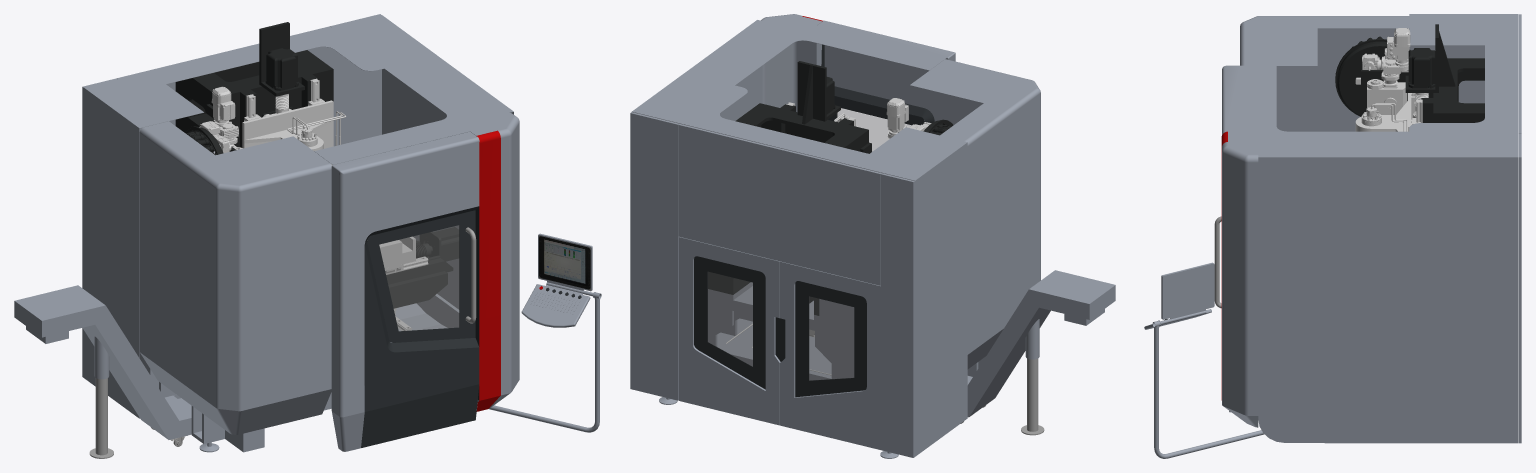
Rendered from machine-off.glb.
The picture shows the model from 3 angles, left to right: view 1: azimuth 30°, elevation 25°; view 2: azimuth 150°, elevation 25°; view 3: azimuth 270°, elevation 25°; orthographic projection. The views are drawn at different scales.
Visible parts, largest first — view 1: CNC_Machine_with_Doors_mesh76_192, CNC_Machine_with_Doors_mesh106_184, CNC_Machine_with_Doors_mesh72_176, CNC_Machine_with_Doors_mesh179_180, CNC_Machine_with_Doors_mesh83_202, CNC_Machine_with_Doors_mesh78_196, CNC_Machine_with_Doors_mesh103_232, CNC_Machine_with_Doors_mesh88_206, CNC_Machine_with_Doors_mesh135_336, CNC_Machine_with_Doors_mesh77_198, CNC_Machine_with_Doors_mesh110_178, CNC_Machine_with_Doors_mesh80_200 (+8 smaller); view 2: CNC_Machine_with_Doors_mesh132_272, CNC_Machine_with_Doors_mesh106_184, CNC_Machine_with_Doors_mesh76_192, CNC_Machine_with_Doors_mesh101_194, CNC_Machine_with_Doors_mesh85_204, CNC_Machine_with_Doors_mesh179_180, CNC_Machine_with_Doors_mesh103_232, CNC_Machine_with_Doors_mesh100_230, CNC_Machine_with_Doors_mesh72_176, CNC_Machine_with_Doors_mesh77_198, CNC_Machine_with_Doors_mesh73_186, CNC_Machine_with_Doors_mesh78_196 (+2 smaller); view 3: CNC_Machine_with_Doors_mesh106_184, CNC_Machine_with_Doors_mesh74_188, CNC_Machine_with_Doors_mesh76_192, CNC_Machine_with_Doors_mesh88_206, CNC_Machine_with_Doors_mesh103_232, CNC_Machine_with_Doors_mesh91_214, CNC_Machine_with_Doors_mesh101_194, CNC_Machine_with_Doors_mesh72_176, CNC_Machine_with_Doors_mesh44_104, CNC_Machine_with_Doors_mesh37_90, CNC_Machine_with_Doors_mesh41_96, CNC_Machine_with_Doors_mesh124_248 (+4 smaller).
Boxes of the visible parts, x1,y1,x2,y2 form: CNC_Machine_with_Doors_mesh76_192: (139, 121, 331, 434); CNC_Machine_with_Doors_mesh106_184: (84, 15, 519, 418); CNC_Machine_with_Doors_mesh72_176: (331, 131, 479, 451); CNC_Machine_with_Doors_mesh179_180: (14, 285, 191, 439); CNC_Machine_with_Doors_mesh83_202: (364, 244, 479, 411); CNC_Machine_with_Doors_mesh78_196: (379, 225, 458, 330); CNC_Machine_with_Doors_mesh103_232: (175, 22, 333, 147); CNC_Machine_with_Doors_mesh88_206: (489, 233, 601, 432); CNC_Machine_with_Doors_mesh135_336: (477, 130, 500, 400); CNC_Machine_with_Doors_mesh77_198: (353, 192, 479, 449); CNC_Machine_with_Doors_mesh110_178: (367, 210, 476, 342); CNC_Machine_with_Doors_mesh80_200: (361, 384, 479, 447); CNC_Machine_with_Doors_mesh132_272: (678, 124, 881, 449); CNC_Machine_with_Doors_mesh106_184: (632, 14, 967, 456); CNC_Machine_with_Doors_mesh76_192: (910, 59, 1040, 369); CNC_Machine_with_Doors_mesh101_194: (630, 112, 678, 400); CNC_Machine_with_Doors_mesh85_204: (881, 173, 914, 457); CNC_Machine_with_Doors_mesh179_180: (967, 270, 1115, 417); CNC_Machine_with_Doors_mesh103_232: (708, 61, 868, 315); CNC_Machine_with_Doors_mesh100_230: (708, 282, 985, 380); CNC_Machine_with_Doors_mesh72_176: (816, 20, 955, 119); CNC_Machine_with_Doors_mesh77_198: (826, 71, 941, 123); CNC_Machine_with_Doors_mesh73_186: (1021, 358, 1044, 435); CNC_Machine_with_Doors_mesh78_196: (837, 108, 911, 151); CNC_Machine_with_Doors_mesh106_184: (1222, 14, 1518, 443); CNC_Machine_with_Doors_mesh74_188: (1409, 157, 1518, 443); CNC_Machine_with_Doors_mesh76_192: (1240, 16, 1409, 131); CNC_Machine_with_Doors_mesh88_206: (1144, 262, 1264, 458); CNC_Machine_with_Doors_mesh103_232: (1405, 24, 1484, 122); CNC_Machine_with_Doors_mesh91_214: (1335, 39, 1410, 116); CNC_Machine_with_Doors_mesh101_194: (1518, 133, 1521, 443); CNC_Machine_with_Doors_mesh72_176: (1222, 65, 1239, 134); CNC_Machine_with_Doors_mesh44_104: (1408, 48, 1435, 88); CNC_Machine_with_Doors_mesh37_90: (1382, 28, 1410, 78); CNC_Machine_with_Doors_mesh41_96: (1367, 81, 1407, 114); CNC_Machine_with_Doors_mesh124_248: (1355, 93, 1411, 131).
Size of the model in its own units: 4.33 by 3.21 by 3.12.
Materials: 12 (1 with a texture image).
